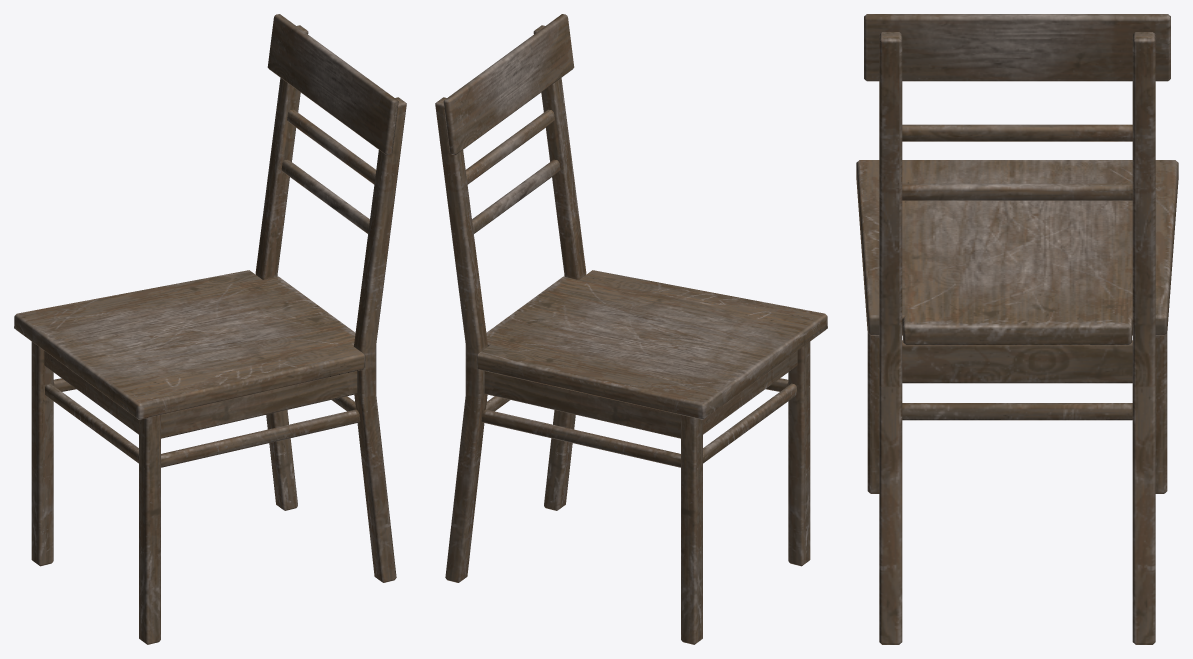
The model's file is SM_chair.fbx.
3 renders of one model, left to right at view 1: azimuth 30°, elevation 25°; view 2: azimuth 150°, elevation 25°; view 3: azimuth 270°, elevation 25°, orthographic. The views are drawn at different scales.
Parts seen in each view (by area): view 1: SM_chair_LOD0; view 2: SM_chair_LOD0; view 3: SM_chair_LOD0.
Part boxes in pixels (x1,y1,x2,y2): SM_chair_LOD0: (14, 14, 406, 644); SM_chair_LOD0: (435, 14, 827, 644); SM_chair_LOD0: (856, 14, 1178, 644).
Bounding box in the file's own units: 53.97 × 41.97 × 89.99.
